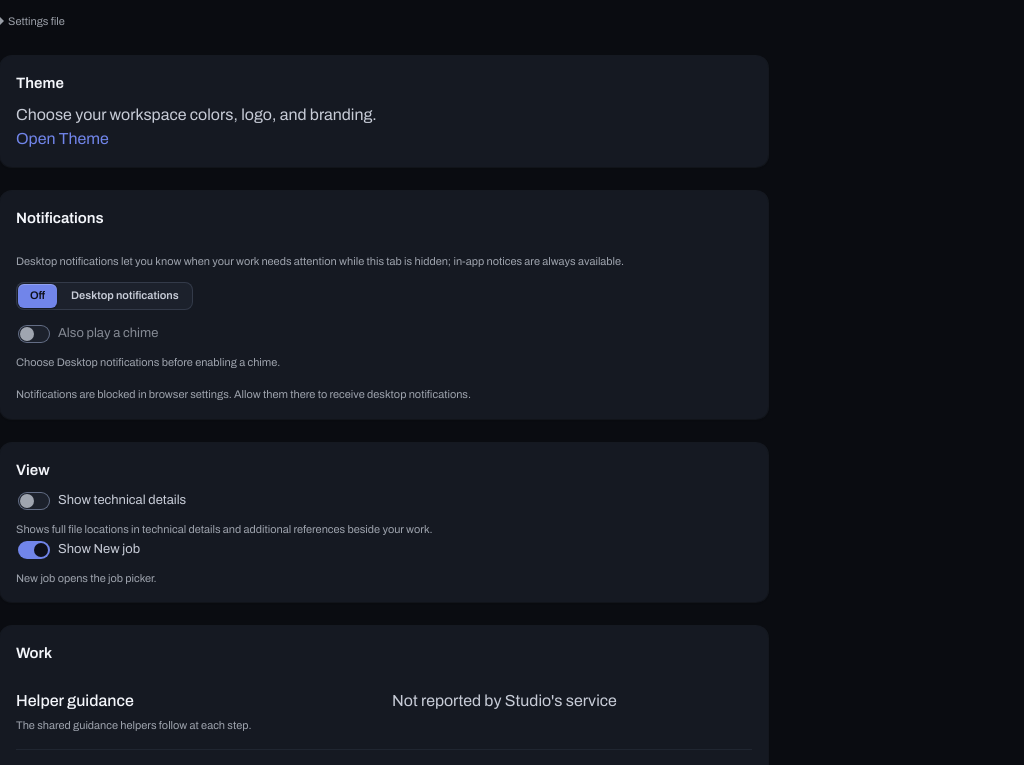
Settings → View › a daemon that drops the field says so instead of showing it saved
Click the switch with test id "show-new-job-toggle" at (79, 550), box [16,538,142,562]
Wait 400 ms
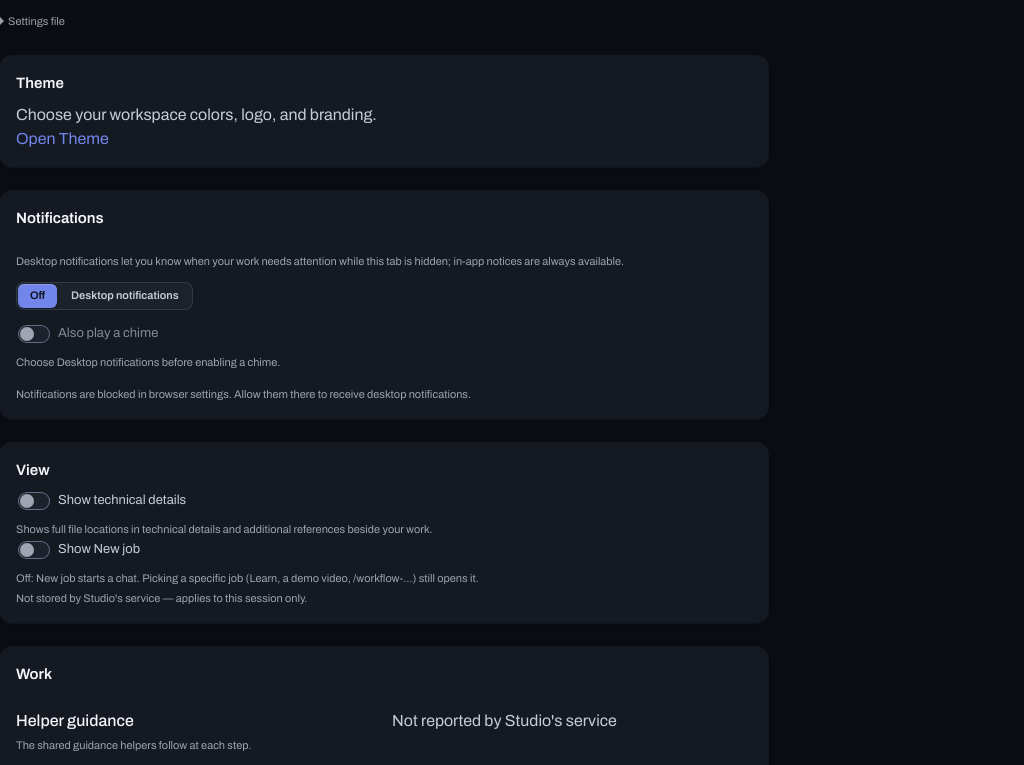
Check: the text with test id "show-new-job-unsaved" shows "applies to this session only", box [16,592,307,604]
